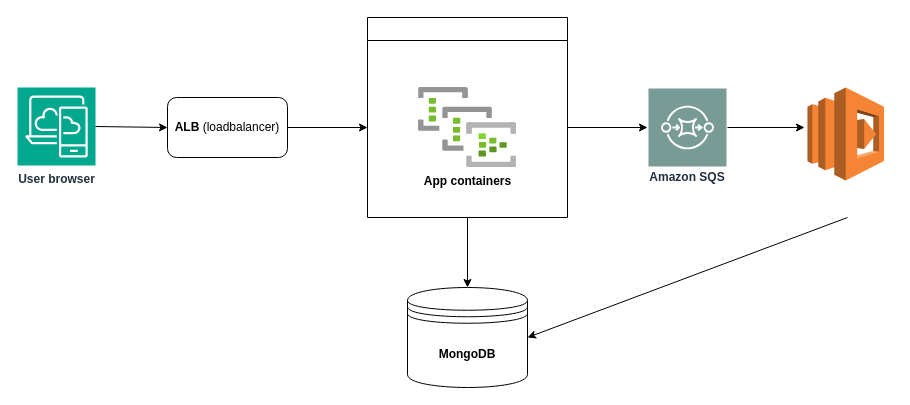
The diagram is 910 pixels wide and 405 high, and some of its shapes have lost their labels. The box of each missing label's shape, as (x1, y1, x2, y2) in pixels:
ECS autoscaling group: (366, 16, 568, 218)
Lambda (text msg sender): (806, 86, 884, 180)
